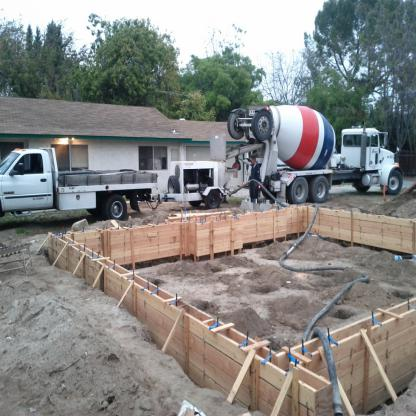Truck: (0, 134, 238, 220), (227, 104, 404, 204)
